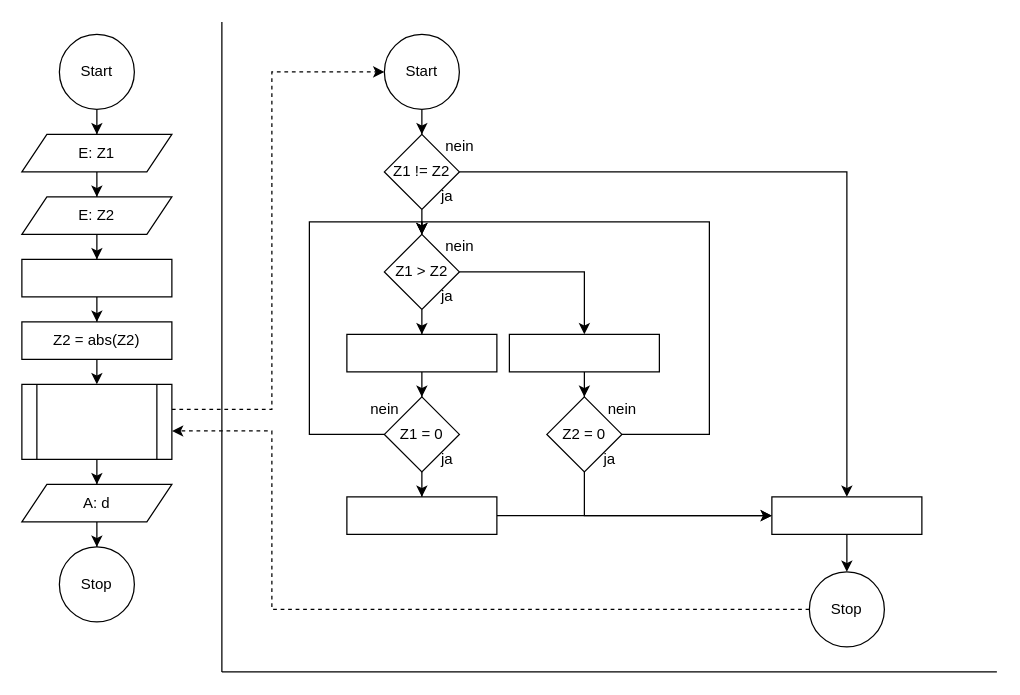
The diagram is 1020 pixels wide and 695 high, and some of its shapes have lost their labels. The centre of each missing label's shape, as x and y in pixels:
d = Z1: (846,515)
greatest_ common_ divisor: (96,421)
Z1 = abs(Z1): (96,277)
Z1 = Z1 - Z2: (421,352)
Z1 = Z2: (421,515)
Z2 = Z2 - Z1: (583,352)
